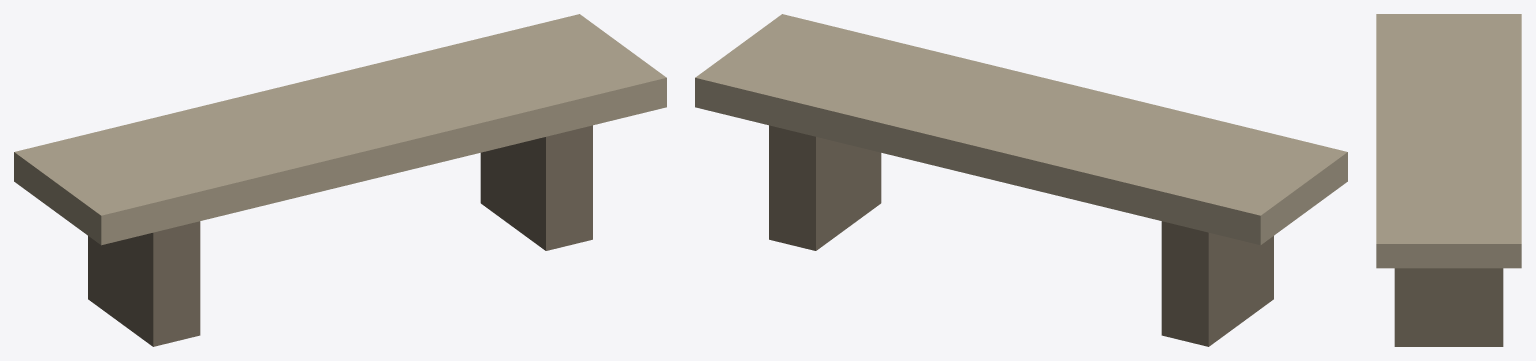
File: prop_bench.glb
3 views of the same model, side by side, from view 1: azimuth 30°, elevation 25°; view 2: azimuth 150°, elevation 25°; view 3: azimuth 270°, elevation 25° (orthographic). The views are drawn at different scales.
Parts seen in each view (by area): view 1: prop_bench; view 2: prop_bench; view 3: prop_bench.
Part boxes in pixels (x1,y1,x2,y2): prop_bench: [14, 14, 666, 346]; prop_bench: [695, 14, 1347, 346]; prop_bench: [1376, 14, 1521, 346].
Size of what is drawn, in the model's own units: 1.8 by 0.47 by 0.48.
